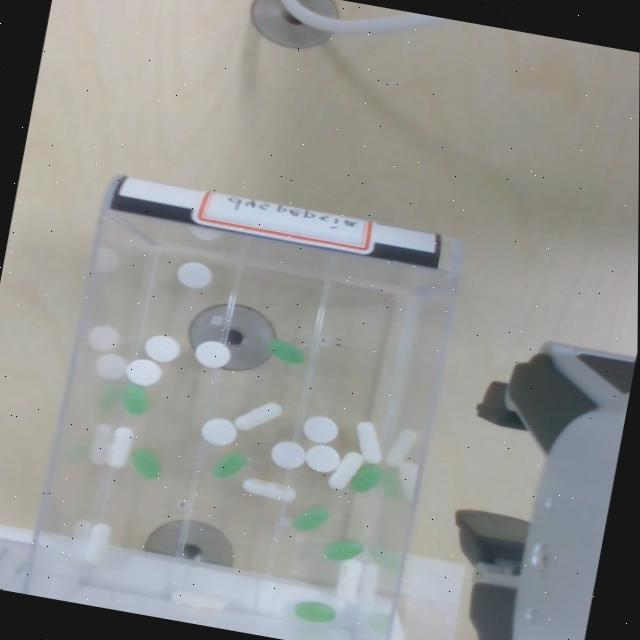magmil_tab: (201, 416, 237, 444), (270, 439, 305, 467), (125, 357, 161, 384), (144, 333, 180, 360), (194, 339, 230, 366), (177, 260, 212, 287), (305, 443, 340, 470), (303, 414, 338, 441)
medilacsenteric_tab: (328, 450, 364, 488), (234, 401, 281, 429), (242, 476, 295, 500), (170, 588, 226, 610), (336, 556, 362, 599), (106, 425, 132, 466), (84, 522, 110, 562), (356, 420, 381, 461)
nexilen_tab: (293, 599, 336, 621), (130, 447, 160, 477), (350, 463, 382, 491), (292, 505, 327, 530), (268, 338, 304, 362), (324, 537, 362, 559), (212, 451, 245, 476), (121, 384, 147, 413)
